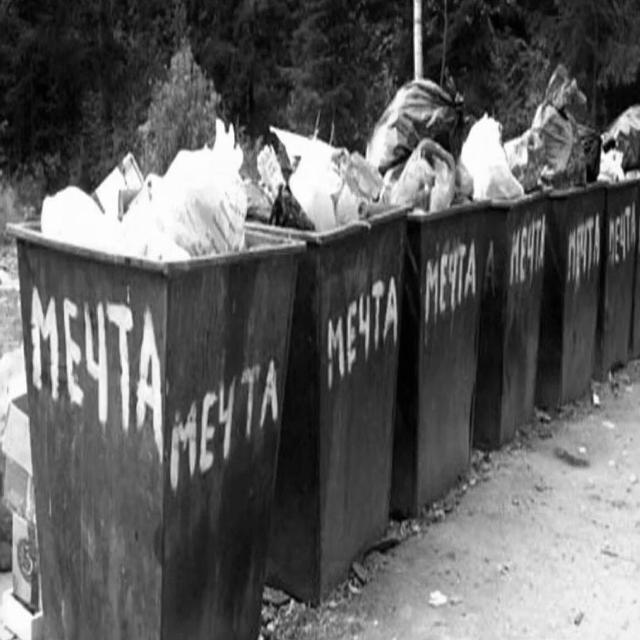bin: (24, 230, 297, 640), (270, 213, 410, 583), (480, 179, 640, 453), (413, 204, 483, 527)
plastic: (257, 69, 640, 236), (33, 126, 254, 260)
